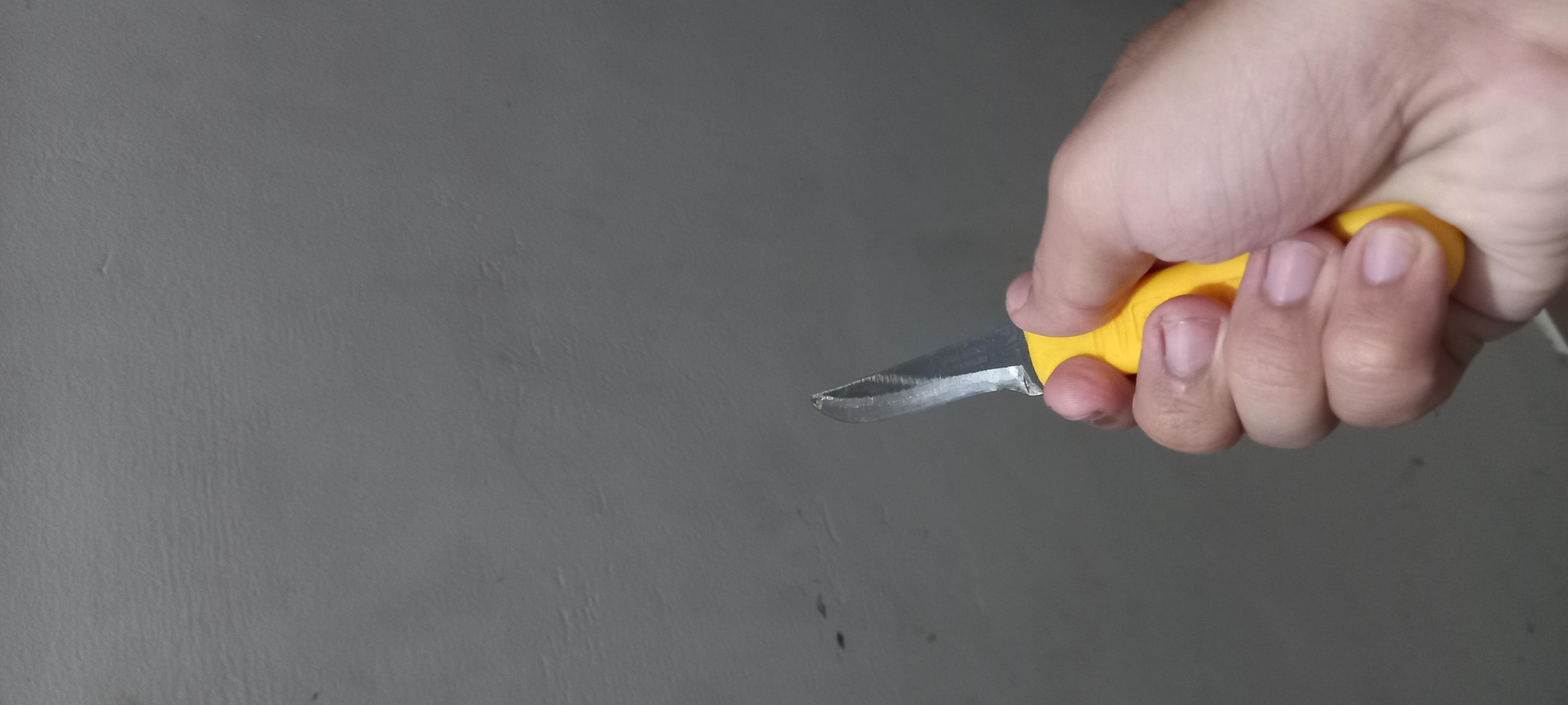knives: (566, 348, 1125, 659)
